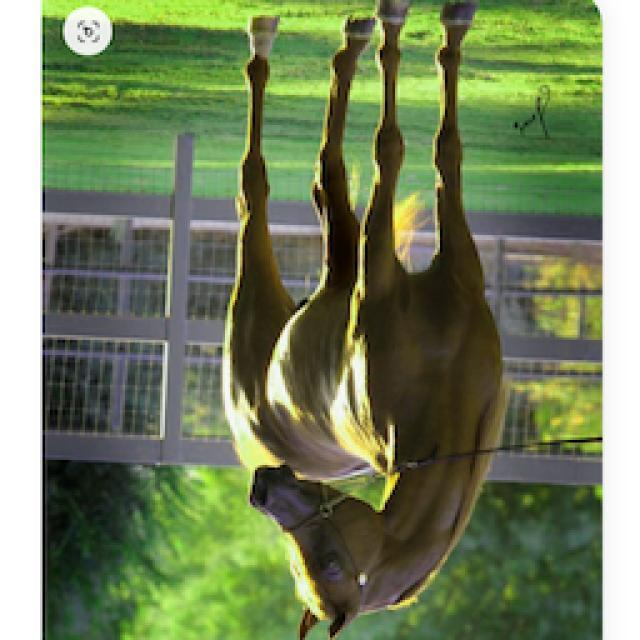Horse: (215, 2, 515, 640)
